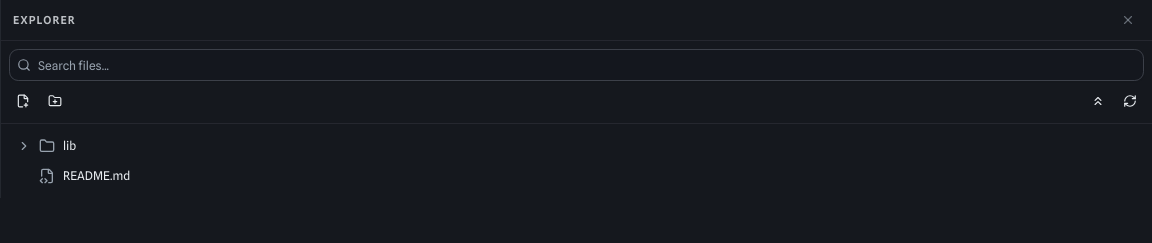
explorer expand-on-tap › FLAT: expands a folder synchronously on tap
Expected: the text "util.ts" is not shown
Click the button "lib". click: {"x": 24, "y": 146}
box: [9,132,1144,160]
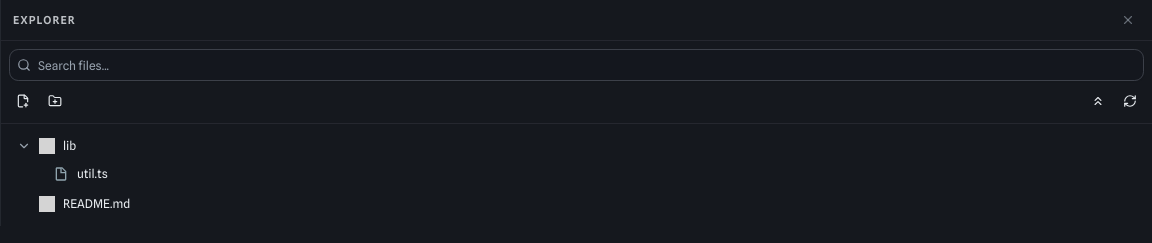
Expected: the text "util.ts" is shown, [77,166,108,181]
